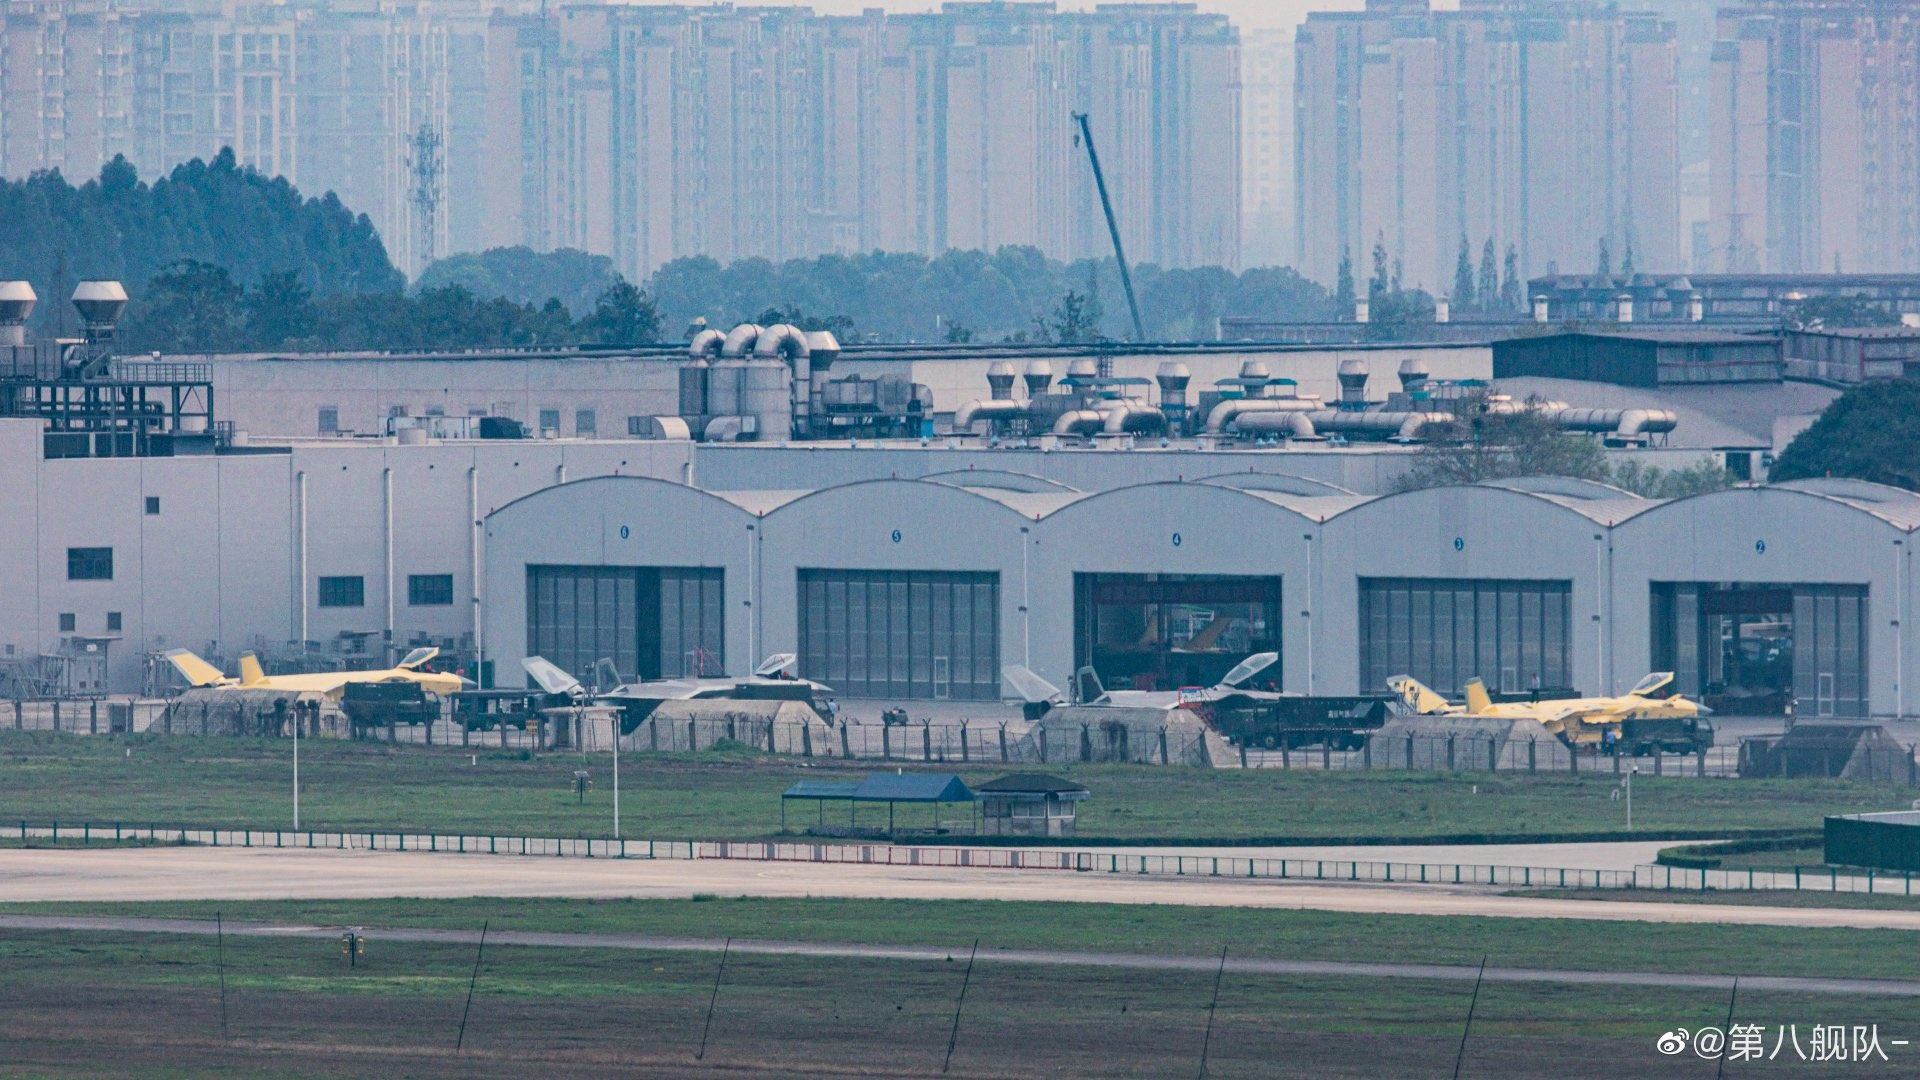J20: (1385, 671, 1716, 756), (162, 646, 479, 731), (520, 651, 837, 735), (1000, 651, 1309, 732), (1092, 609, 1234, 678)
